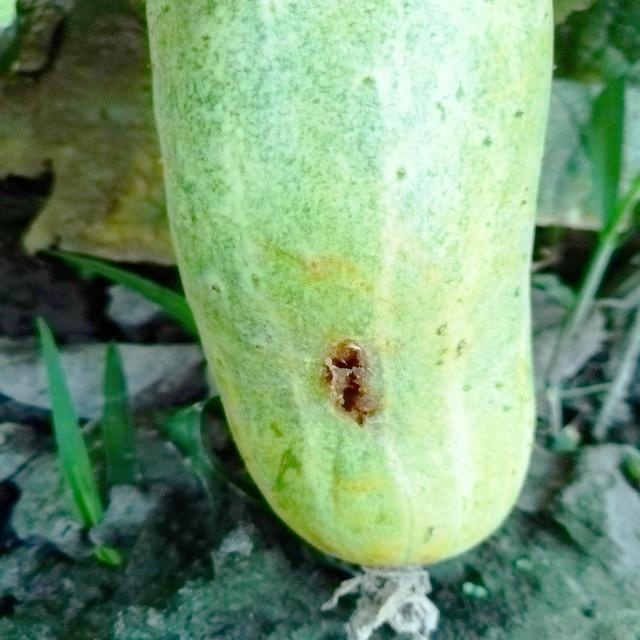Belly-Rot: (311, 327, 387, 437)
